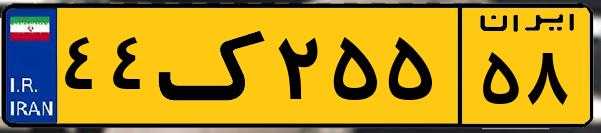2: (270, 28, 330, 110)
4: (57, 26, 110, 100), (110, 28, 158, 98)
5: (385, 28, 445, 110), (330, 28, 385, 110), (475, 38, 525, 113)
8: (525, 38, 570, 115)
ک: (158, 12, 270, 120)
